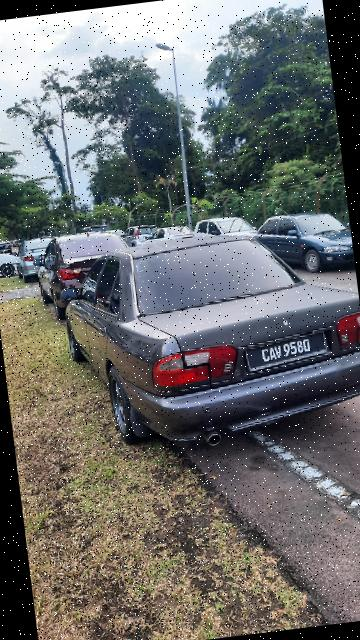License_Plate: (231, 324, 332, 377)
car: (52, 213, 360, 466)
